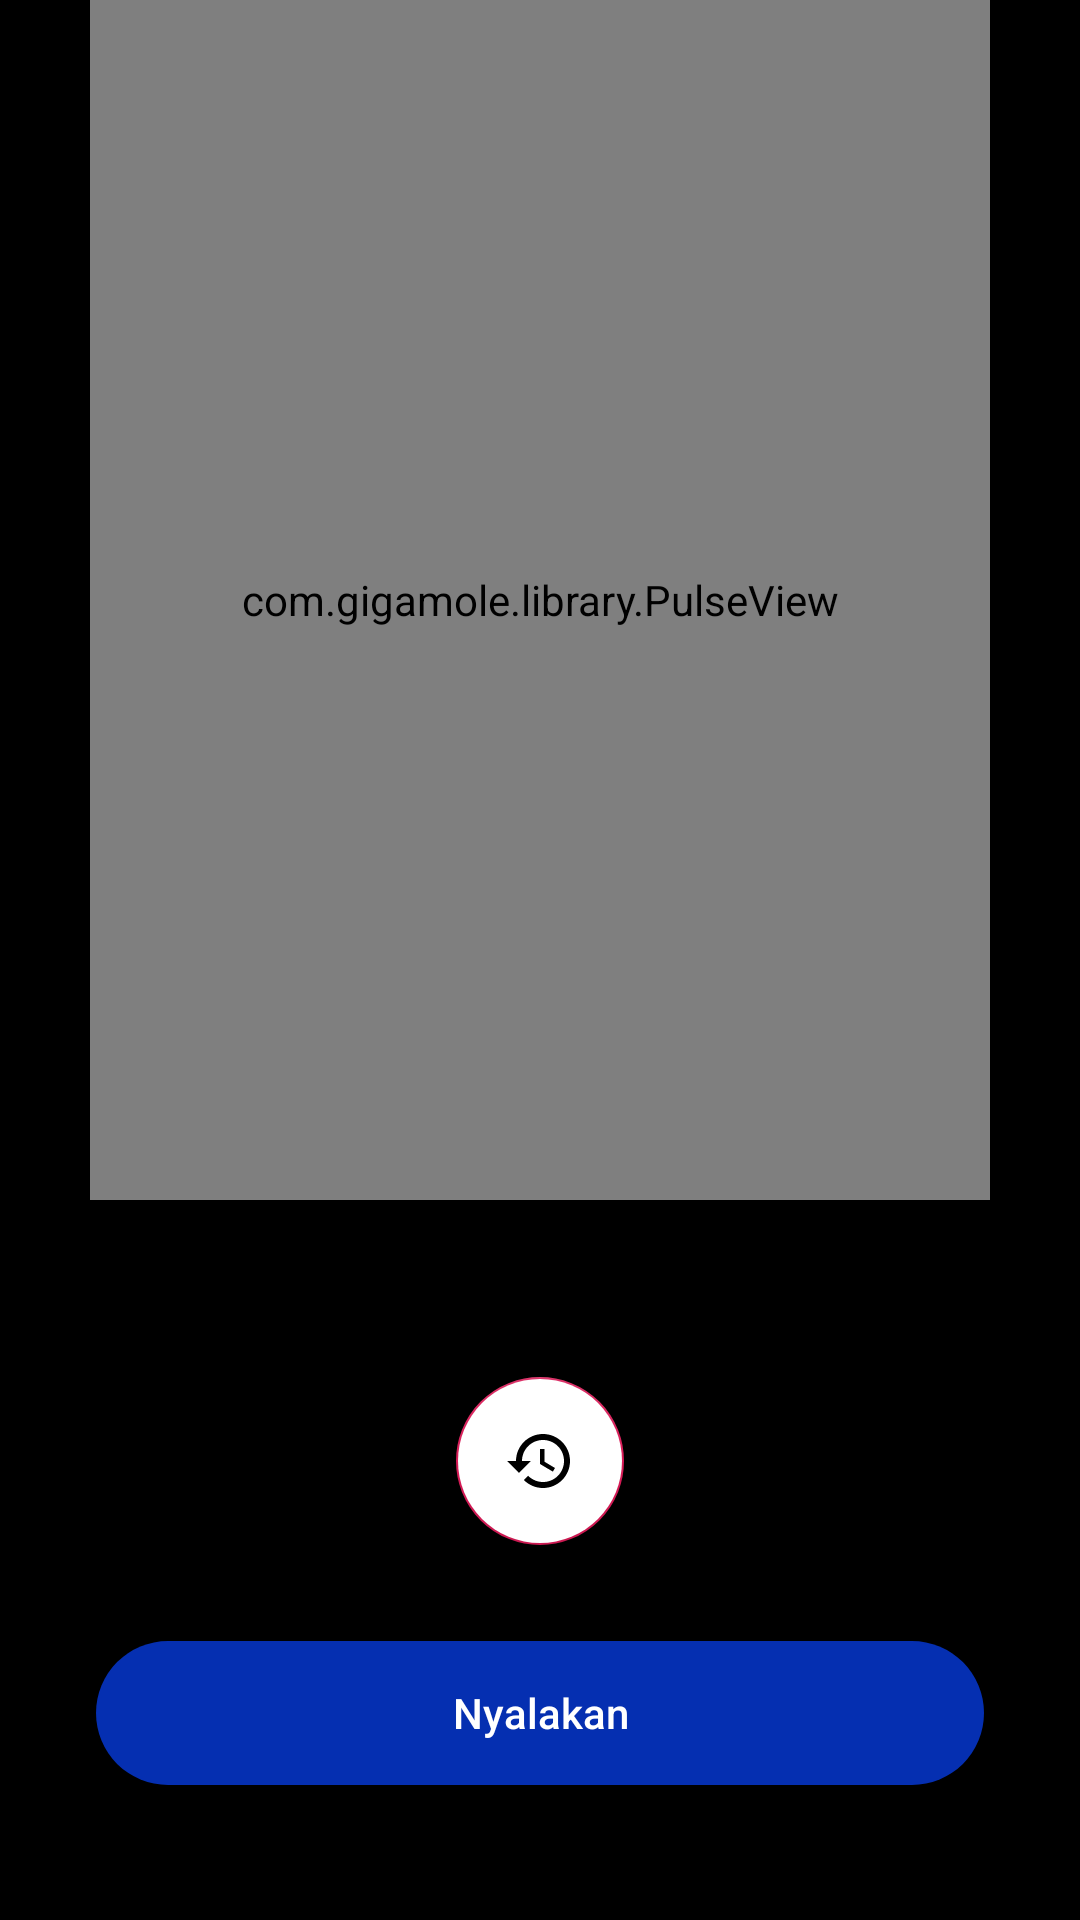

Screen size 1080×1920. Icon name, then its center in pixels as (x,y):
history: (540,1461)
